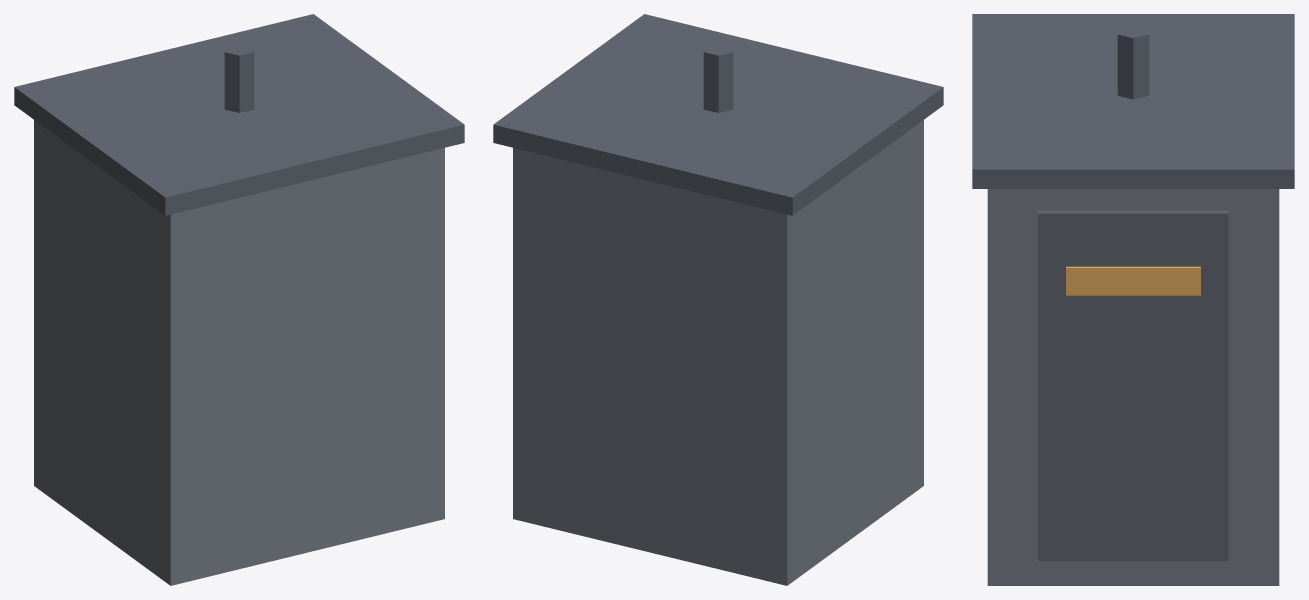
The model's file is transformer.glb.
3 views of the same model, side by side, from view 1: azimuth 30°, elevation 25°; view 2: azimuth 150°, elevation 25°; view 3: azimuth 270°, elevation 25° (orthographic). The views are drawn at different scales.
Visible parts, largest first — view 1: transformer; view 2: transformer; view 3: transformer.
Part boxes in pixels (<box>): transformer: <box>14,14,464,585</box>; transformer: <box>493,14,943,585</box>; transformer: <box>972,14,1294,585</box>.
Bounding box in the file's own units: 1.2 × 1.74 × 1.05.
